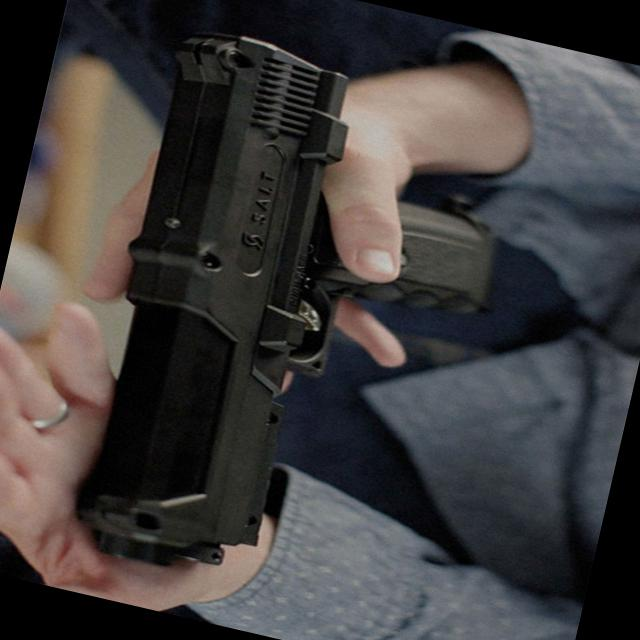handgun: (51, 15, 540, 629)
